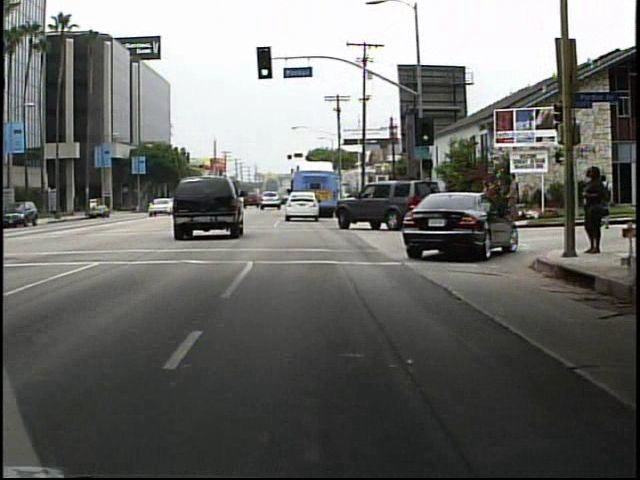person: (575, 162, 603, 258), (469, 177, 500, 235), (503, 174, 522, 219), (598, 171, 611, 234)
